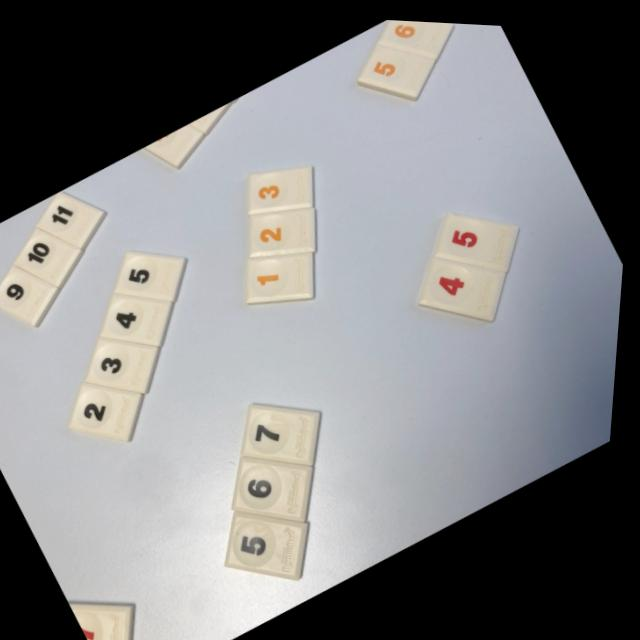black_10: (18, 227, 87, 287)
black_11: (40, 192, 109, 248)
black_2: (75, 381, 149, 440)
black_3: (92, 337, 164, 391)
black_4: (106, 291, 177, 345)
black_5: (234, 508, 316, 577), (119, 249, 190, 300)
black_6: (240, 453, 319, 518)
black_7: (248, 400, 326, 462)
black_9: (0, 265, 64, 326)
orange_1: (250, 249, 318, 301)
orange_2: (252, 205, 318, 254)
orange_3: (250, 162, 316, 212)
orange_5: (360, 40, 436, 96)
orange_6: (378, 16, 454, 54)
red_4: (423, 252, 509, 314)
red_5: (438, 207, 522, 266)
